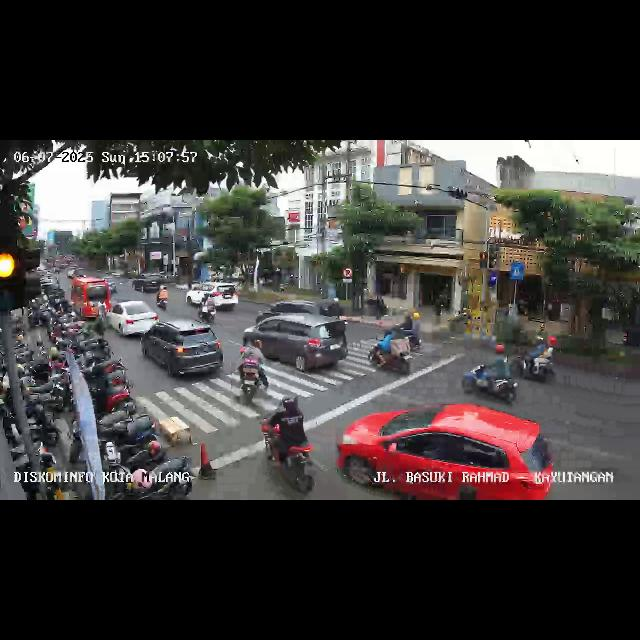car: (336, 402, 554, 500), (246, 312, 354, 376), (142, 321, 226, 381), (257, 299, 339, 325), (106, 300, 158, 340), (72, 276, 110, 322), (194, 282, 240, 312), (132, 272, 164, 294)
motorcycle: (261, 390, 319, 496), (462, 349, 520, 406), (369, 324, 417, 376), (513, 336, 559, 384), (236, 336, 268, 402), (385, 311, 423, 353), (199, 293, 217, 323), (156, 284, 168, 310)
